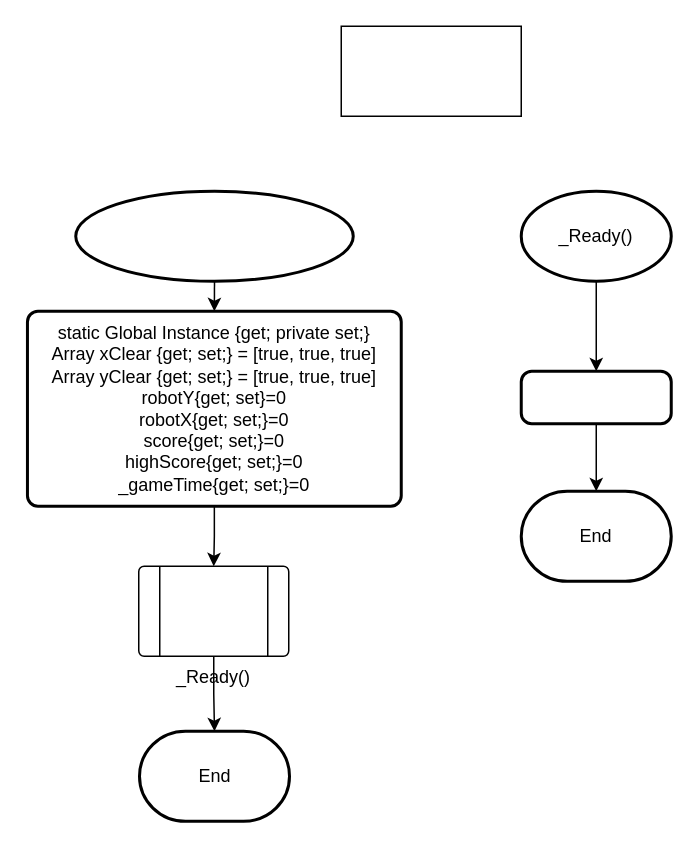
The diagram is 699 pixels wide and 849 high, and some of its shapes have lost their labels. The box of each missing label's shape, as (x1, y1, x2, y2) in pixels:
Global: (340, 25, 521, 116)
Instance=this: (519, 369, 672, 424)
partial class Global:Node2D: (74, 189, 354, 282)
